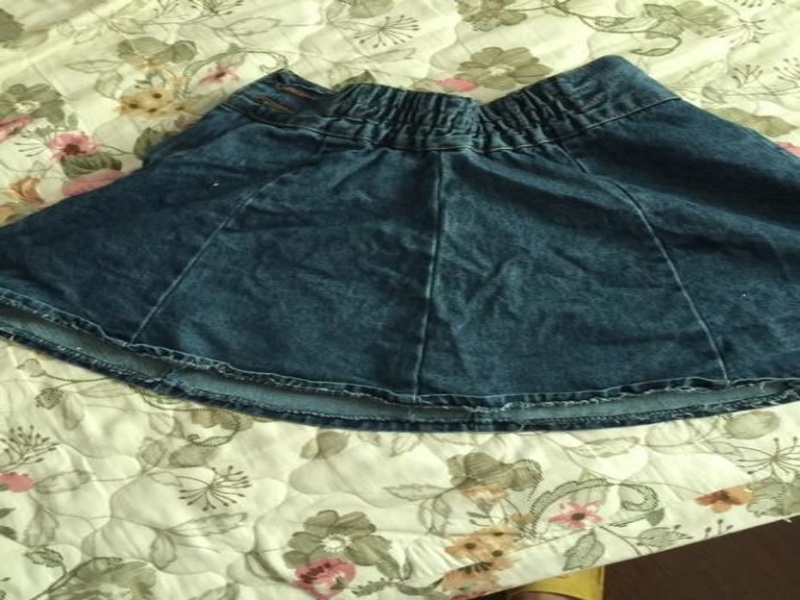skirt: (0, 55, 798, 437)
